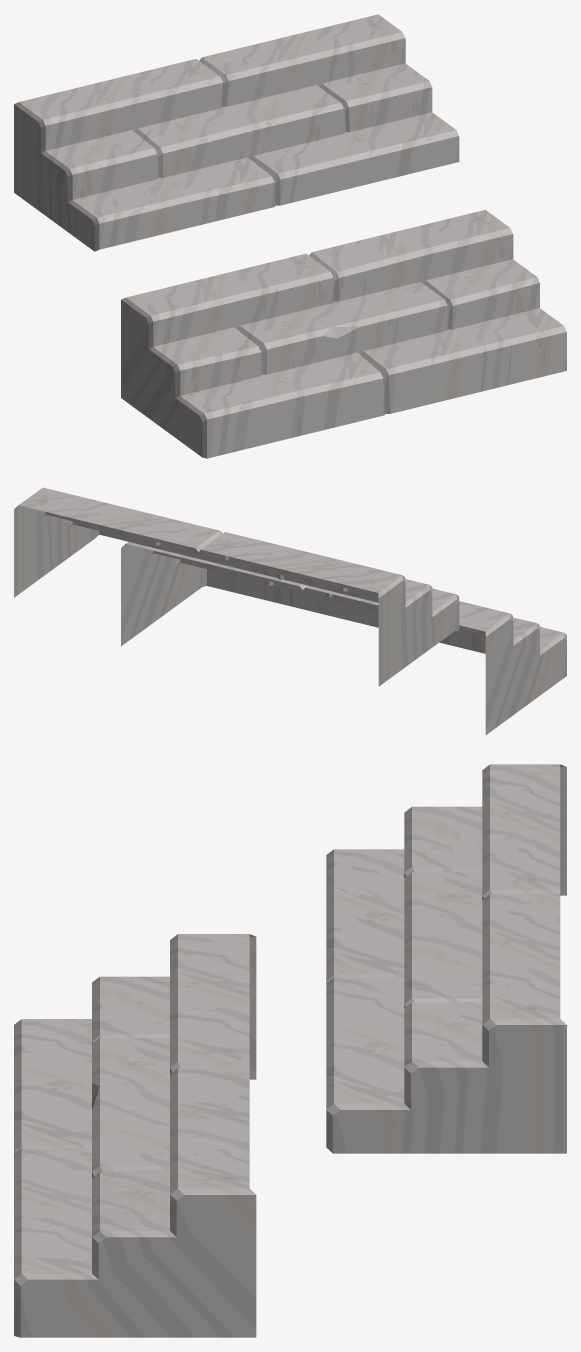
File: SM_Bld_Step_02_Insert_01.fbx
3 renders of one model, top to bottom at view 1: azimuth 30°, elevation 25°; view 2: azimuth 150°, elevation 25°; view 3: azimuth 270°, elevation 25°, orthographic. The views are drawn at different scales.
Visible parts, largest first — view 1: SM_Bld_Step_02_Insert_01; view 2: SM_Bld_Step_02_Insert_01; view 3: SM_Bld_Step_02_Insert_01.
Part boxes in pixels (x1,y1,x2,y2): SM_Bld_Step_02_Insert_01: [14, 14, 566, 458]; SM_Bld_Step_02_Insert_01: [14, 487, 566, 734]; SM_Bld_Step_02_Insert_01: [14, 764, 566, 1337].
Bounding box in the file's own units: 244 × 140 × 221.
